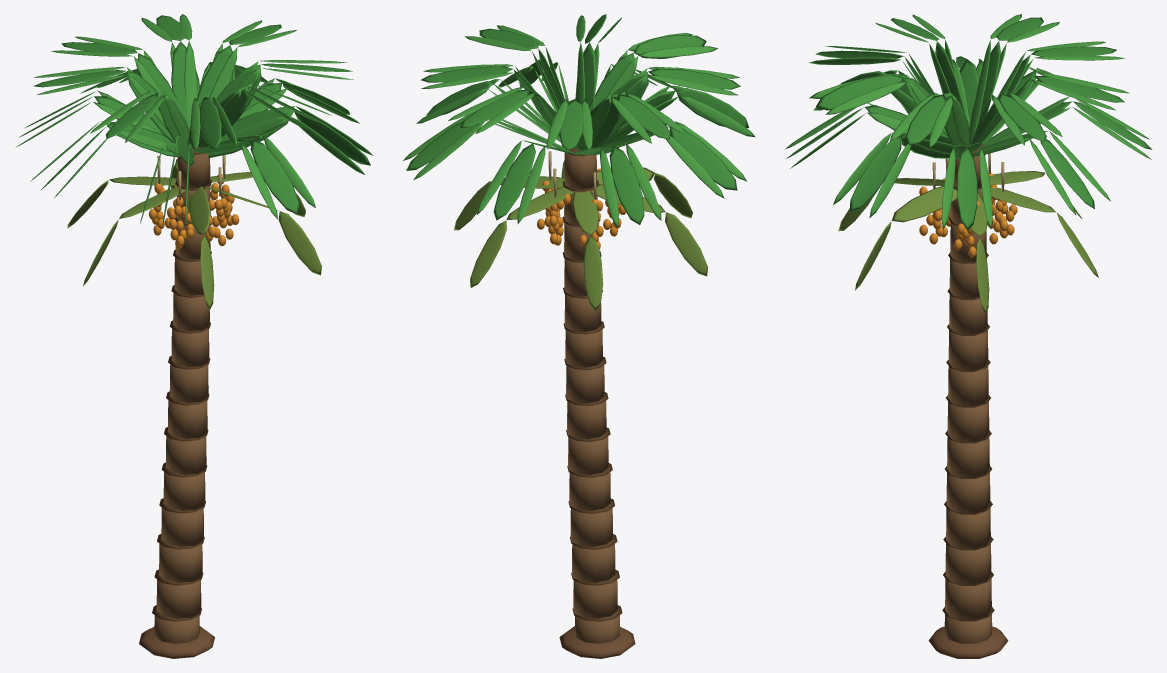
The model's file is palm.glb.
3 renders of one model, left to right at view 1: azimuth 30°, elevation 25°; view 2: azimuth 150°, elevation 25°; view 3: azimuth 270°, elevation 25°, orthographic. The views are drawn at different scales.
Visible parts, largest first — view 1: Leaf, Stem, Fruit; view 2: Leaf, Stem, Fruit; view 3: Leaf, Stem, Fruit.
Boxes of the visible parts, bbox=[...] form: Leaf: bbox=[15, 14, 373, 309]; Stem: bbox=[139, 146, 214, 658]; Fruit: bbox=[149, 155, 239, 249]; Leaf: bbox=[403, 14, 755, 310]; Stem: bbox=[559, 148, 635, 658]; Fruit: bbox=[537, 151, 626, 249]; Leaf: bbox=[784, 14, 1152, 313]; Stem: bbox=[928, 142, 1008, 658]; Fruit: bbox=[919, 153, 1017, 257].
Size of the model in its own units: 4.61 by 8.19 by 4.61.
